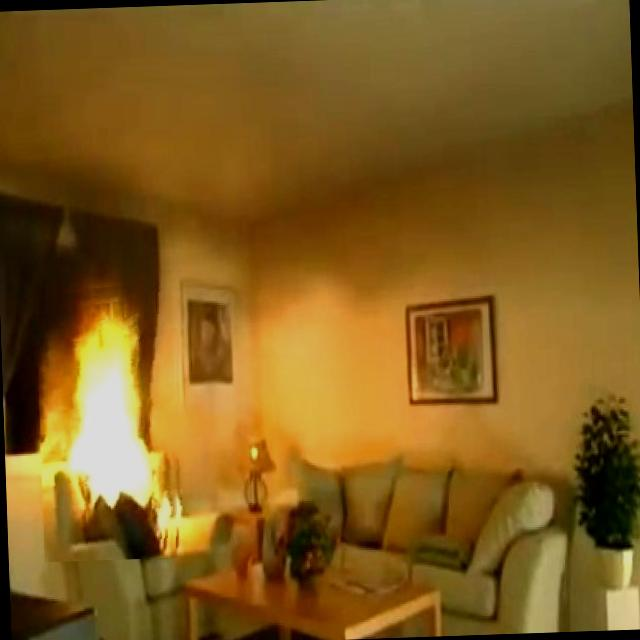fire: (50, 304, 154, 516)
